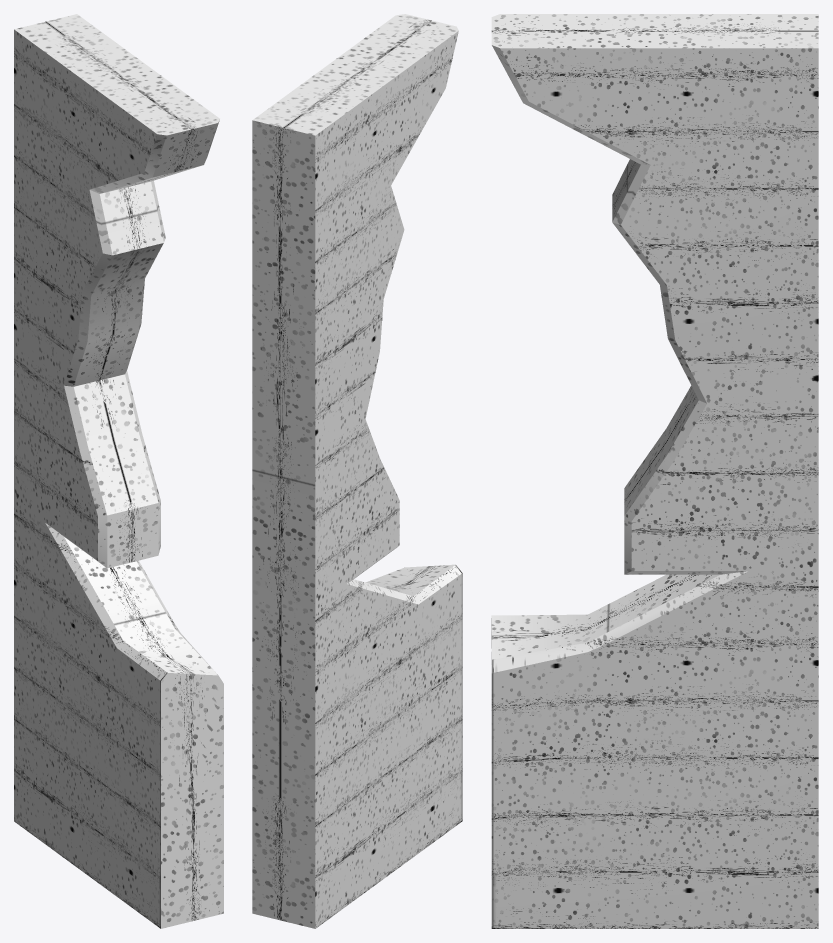
File: Wall_Spacer_Cardinal_Backing_01_transition.fbx
3 renders of one model, left to right at view 1: azimuth 30°, elevation 25°; view 2: azimuth 150°, elevation 25°; view 3: azimuth 270°, elevation 25°, orthographic. The views are drawn at different scales.
Parts seen in each view (by area): view 1: wall_backing_transition_03; view 2: wall_backing_transition_03; view 3: wall_backing_transition_03.
Part boxes in pixels (x1,y1,x2,y2): wall_backing_transition_03: (14, 14, 223, 928); wall_backing_transition_03: (252, 14, 462, 928); wall_backing_transition_03: (491, 14, 818, 928).
Bounding box in the file's own units: 0.25 × 3 × 1.01.
